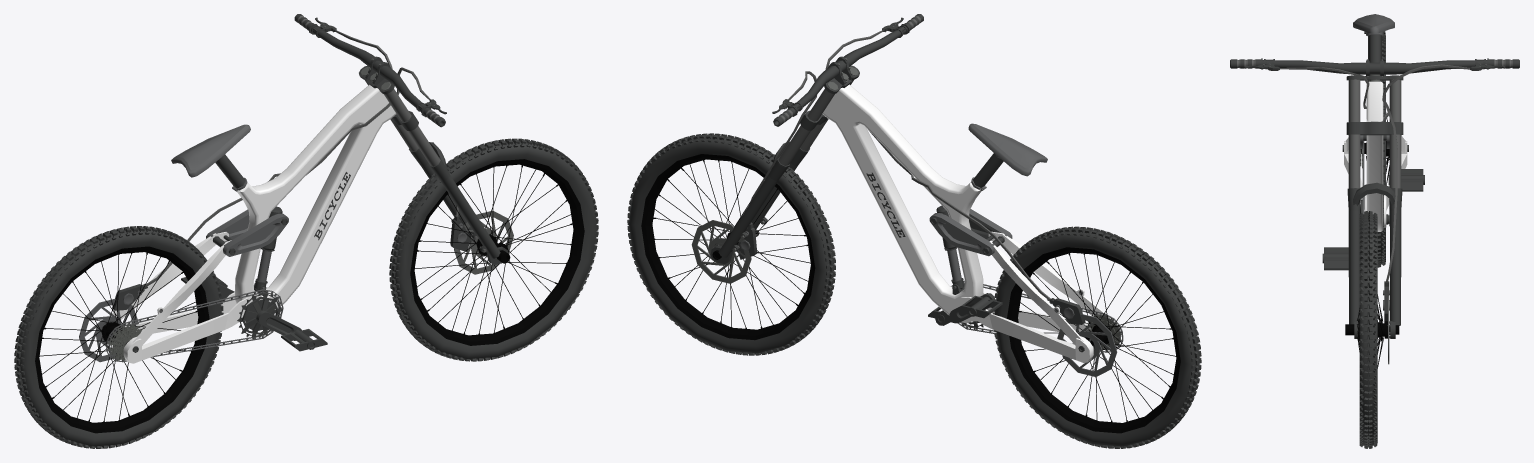
Rendered from enduro-dh.glb.
The picture shows the model from 3 angles, left to right: view 1: azimuth 30°, elevation 25°; view 2: azimuth 150°, elevation 25°; view 3: azimuth 270°, elevation 25°; orthographic projection.
Visible parts, largest first — view 1: Body_Mat Body_0, Wheel_B_Textures_0, Wheel_F_Textures_0, Body_Textures_0, Wheel_F_Mat Wheel_0, Steer_Textures_0, Wheel_B_Mat Wheel_0, Pedal_Textures_0, Pedal_R_Textures_0; view 2: Body_Mat Body_0, Wheel_F_Textures_0, Wheel_B_Textures_0, Steer_Textures_0, Wheel_F_Mat Wheel_0, Body_Textures_0, Wheel_B_Mat Wheel_0, Pedal_L_Textures_0; view 3: Steer_Textures_0, Wheel_F_Textures_0, Body_Mat Body_0, Body_Textures_0, Wheel_B_Textures_0, Wheel_F_Mat Wheel_0, Pedal_R_Textures_0, Pedal_L_Textures_0.
Part boxes in pixels (box(x1,y1,x2,y2)): Body_Mat Body_0: box(96, 84, 396, 363); Wheel_B_Textures_0: box(14, 226, 223, 448); Wheel_F_Textures_0: box(389, 138, 598, 361); Body_Textures_0: box(106, 124, 470, 362); Wheel_F_Mat Wheel_0: box(410, 159, 584, 345); Steer_Textures_0: box(146, 14, 508, 285); Wheel_B_Mat Wheel_0: box(35, 246, 209, 433); Pedal_Textures_0: box(218, 284, 301, 340); Pedal_R_Textures_0: box(281, 329, 327, 351); Body_Mat Body_0: box(822, 84, 1120, 362); Wheel_F_Textures_0: box(627, 133, 835, 355); Wheel_B_Textures_0: box(993, 226, 1201, 448); Steer_Textures_0: box(710, 14, 1050, 300); Wheel_F_Mat Wheel_0: box(641, 154, 815, 340); Body_Textures_0: box(737, 123, 1123, 352); Wheel_B_Mat Wheel_0: box(1007, 247, 1180, 433); Pedal_L_Textures_0: box(956, 295, 1002, 318); Steer_Textures_0: box(1230, 58, 1519, 338); Wheel_F_Textures_0: box(1359, 211, 1390, 448); Body_Mat Body_0: box(1344, 81, 1407, 231); Body_Textures_0: box(1342, 14, 1408, 322); Wheel_B_Textures_0: box(1360, 33, 1385, 267); Wheel_F_Mat Wheel_0: box(1345, 294, 1399, 368); Pedal_R_Textures_0: box(1322, 247, 1348, 270); Pedal_L_Textures_0: box(1388, 169, 1424, 191).
Size of the model in its own units: 1.35 by 0.7199 by 0.5852.
Materials: 3 (1 with a texture image).
